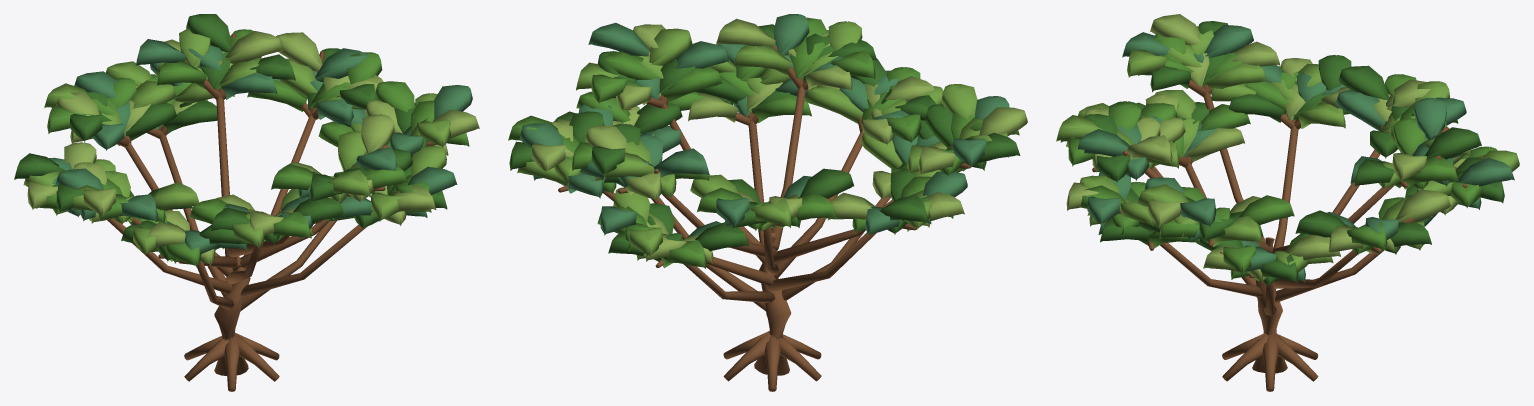
File: hero-azalea.glb
3 views of the same model, side by side, from view 1: azimuth 30°, elevation 25°; view 2: azimuth 150°, elevation 25°; view 3: azimuth 270°, elevation 25° (orthographic). The views are drawn at different scales.
Visible parts, largest first — view 1: Tapered fluted trunk.004, Primary branch.057, Folded azalea leaf.170, Folded azalea leaf.087, Folded azalea leaf.171, Folded azalea leaf.179, Folded azalea leaf.086, Folded azalea leaf.044, Folded azalea leaf.147, Primary branch.058, Folded azalea leaf.124, Folded azalea leaf.139 (+70 smaller); view 2: Tapered fluted trunk.004, Folded azalea leaf.139, Folded azalea leaf.138, Folded azalea leaf.179, Folded azalea leaf.177, Folded azalea leaf.178, Folded azalea leaf.097, Primary branch.058, Primary branch.065, Folded azalea leaf.115, Folded azalea leaf.142, Folded azalea leaf.163 (+75 smaller); view 3: Folded azalea leaf.087, Folded azalea leaf.171, Folded azalea leaf.115, Folded azalea leaf.113, Tapered fluted trunk.004, Folded azalea leaf.047, Folded azalea leaf.154, Folded azalea leaf.163, Folded azalea leaf.155, Primary branch.057, Folded azalea leaf.131, Folded azalea leaf.028 (+63 smaller).
Part boxes in pixels (x1=…): Tapered fluted trunk.004: x1=214, y1=256, x2=250, y2=375; Primary branch.057: x1=240, y1=224, x2=367, y2=296; Folded azalea leaf.170: x1=225, y1=31, x2=282, y2=63; Folded azalea leaf.087: x1=276, y1=32, x2=322, y2=71; Folded azalea leaf.171: x1=186, y1=14, x2=232, y2=52; Folded azalea leaf.179: x1=361, y1=114, x2=394, y2=154; Folded azalea leaf.086: x1=315, y1=48, x2=368, y2=82; Folded azalea leaf.044: x1=163, y1=100, x2=217, y2=134; Folded azalea leaf.147: x1=151, y1=182, x2=200, y2=210; Primary branch.058: x1=107, y1=219, x2=232, y2=293; Folded azalea leaf.124: x1=125, y1=102, x2=176, y2=140; Folded azalea leaf.139: x1=434, y1=85, x2=472, y2=118; Tapered fluted trunk.004: x1=754, y1=233, x2=791, y2=375; Folded azalea leaf.139: x1=588, y1=22, x2=649, y2=56; Folded azalea leaf.138: x1=649, y1=28, x2=692, y2=65; Folded azalea leaf.179: x1=716, y1=18, x2=775, y2=46; Folded azalea leaf.177: x1=733, y1=45, x2=792, y2=76; Folded azalea leaf.178: x1=773, y1=14, x2=809, y2=55; Folded azalea leaf.097: x1=804, y1=87, x2=863, y2=123; Primary branch.058: x1=768, y1=232, x2=876, y2=291; Primary branch.065: x1=771, y1=86, x2=805, y2=250; Folded azalea leaf.115: x1=800, y1=168, x2=854, y2=198; Folded azalea leaf.142: x1=674, y1=41, x2=729, y2=68; Folded azalea leaf.163: x1=654, y1=148, x2=709, y2=177; Folded azalea leaf.087: x1=1395, y1=189, x2=1451, y2=222; Folded azalea leaf.171: x1=1425, y1=127, x2=1481, y2=159; Folded azalea leaf.115: x1=1338, y1=65, x2=1389, y2=100; Folded azalea leaf.113: x1=1335, y1=89, x2=1385, y2=130; Tapered fluted trunk.004: x1=1252, y1=237, x2=1287, y2=373; Folded azalea leaf.047: x1=1455, y1=157, x2=1514, y2=186; Folded azalea leaf.154: x1=1204, y1=25, x2=1253, y2=57; Folded azalea leaf.163: x1=1414, y1=97, x2=1446, y2=139; Folded azalea leaf.155: x1=1150, y1=14, x2=1200, y2=45; Primary branch.057: x1=1160, y1=243, x2=1263, y2=297; Folded azalea leaf.131: x1=1239, y1=195, x2=1294, y2=225; Folded azalea leaf.028: x1=1187, y1=128, x2=1244, y2=162.
Bounding box in the file's own units: 0.2579 × 0.161 × 0.247.
